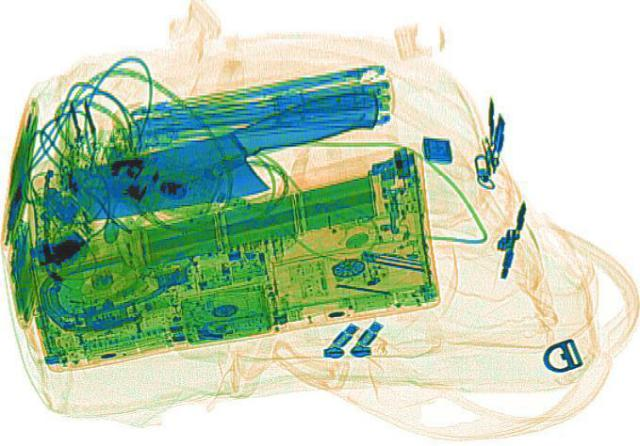Knife: (51, 83, 410, 238)
